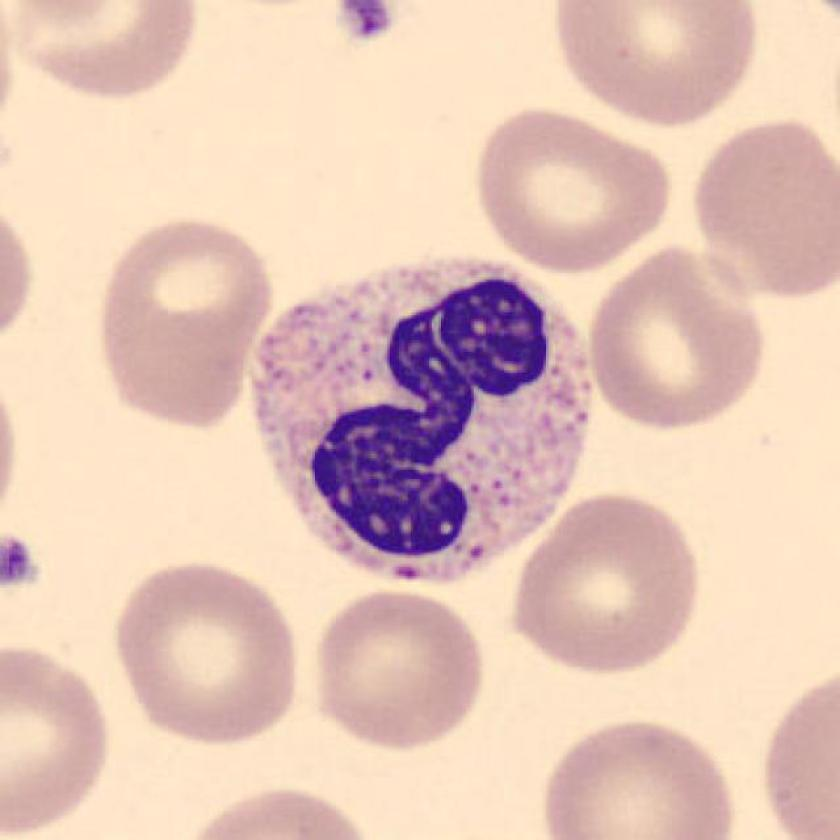neutrophil: (248, 257, 597, 582)
